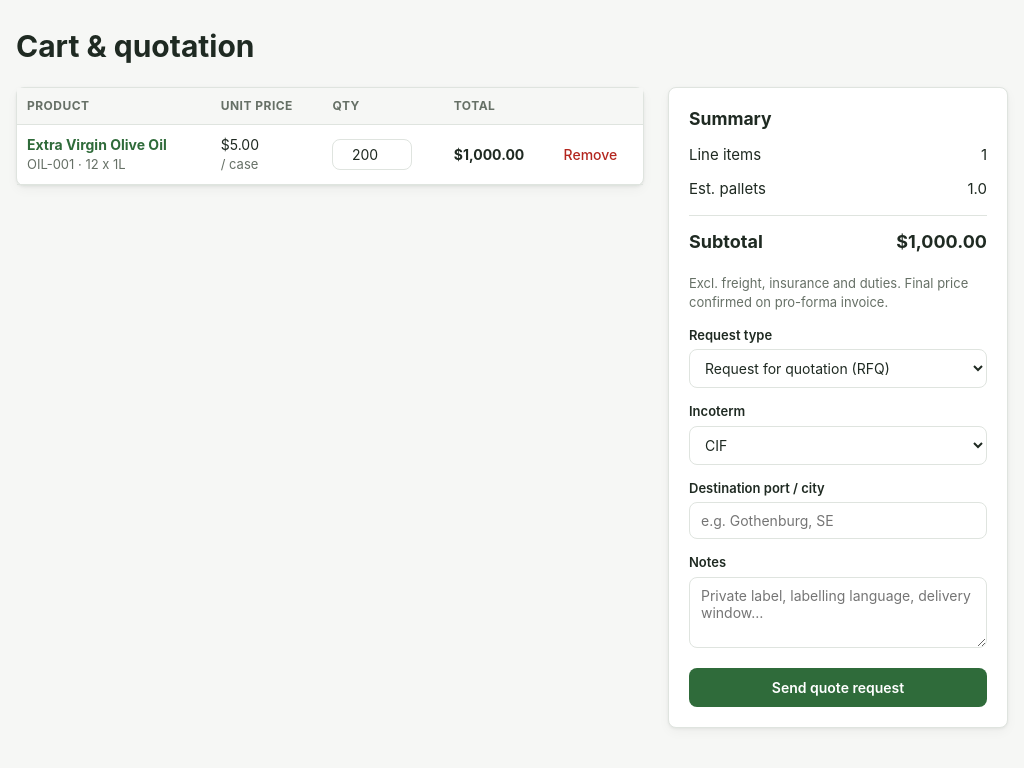
Test: Cart page › editing the cart › shows the empty state after removing the last line
What coordinates should you click on to do the following:
click the button "Remove"
I would click on:
 (590, 154)
Its box is [564, 146, 617, 163].
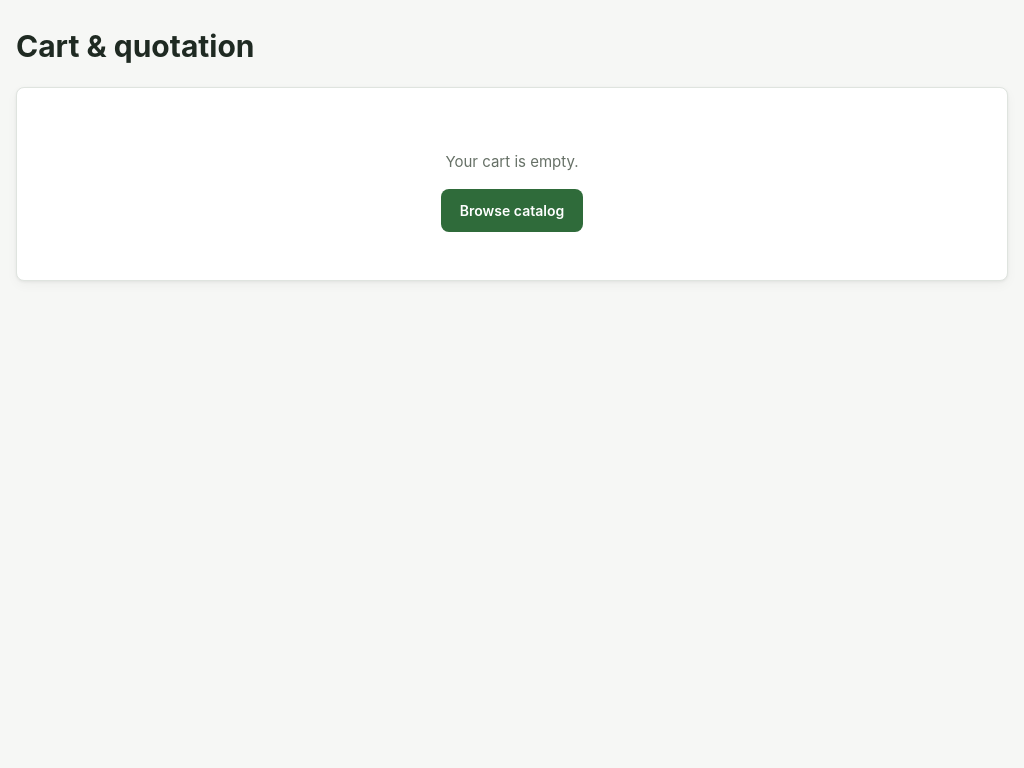
Now the text "Your cart is empty." is shown, box [446, 152, 578, 171]
